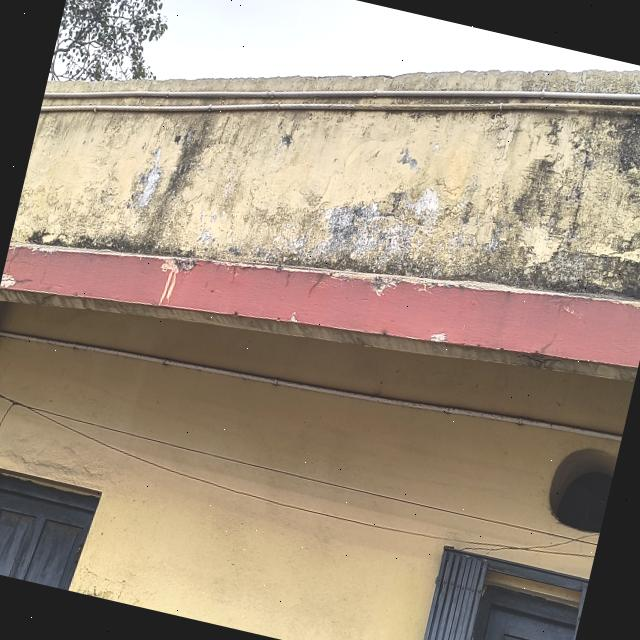stain_mould: (9, 71, 640, 298)
